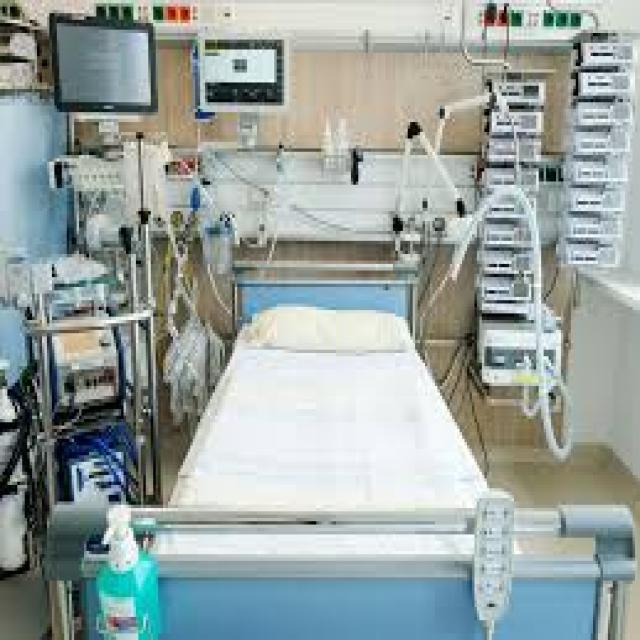cardiac_monitor: (27, 4, 167, 122)
iv_fluids: (130, 126, 261, 292)
patient_bed: (199, 277, 472, 593)
ventilator: (436, 40, 640, 404)
